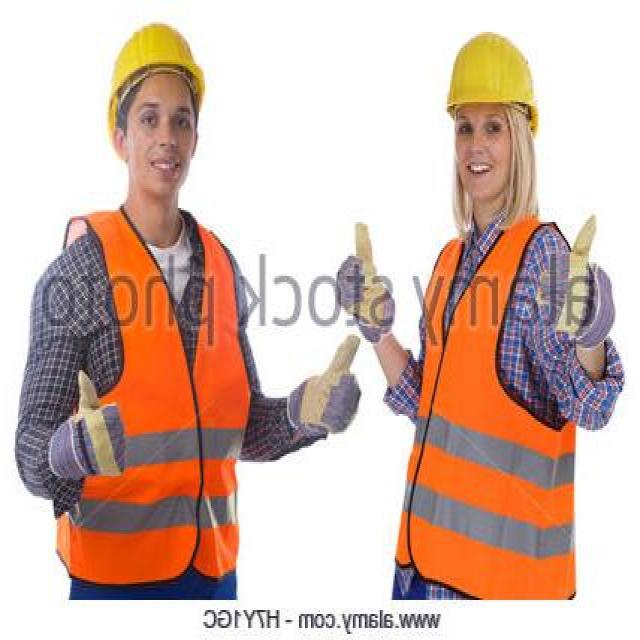Reflective-Jacket: (54, 206, 253, 586), (390, 210, 577, 598)
Safety-Helmet: (103, 12, 211, 108), (441, 24, 544, 124)
